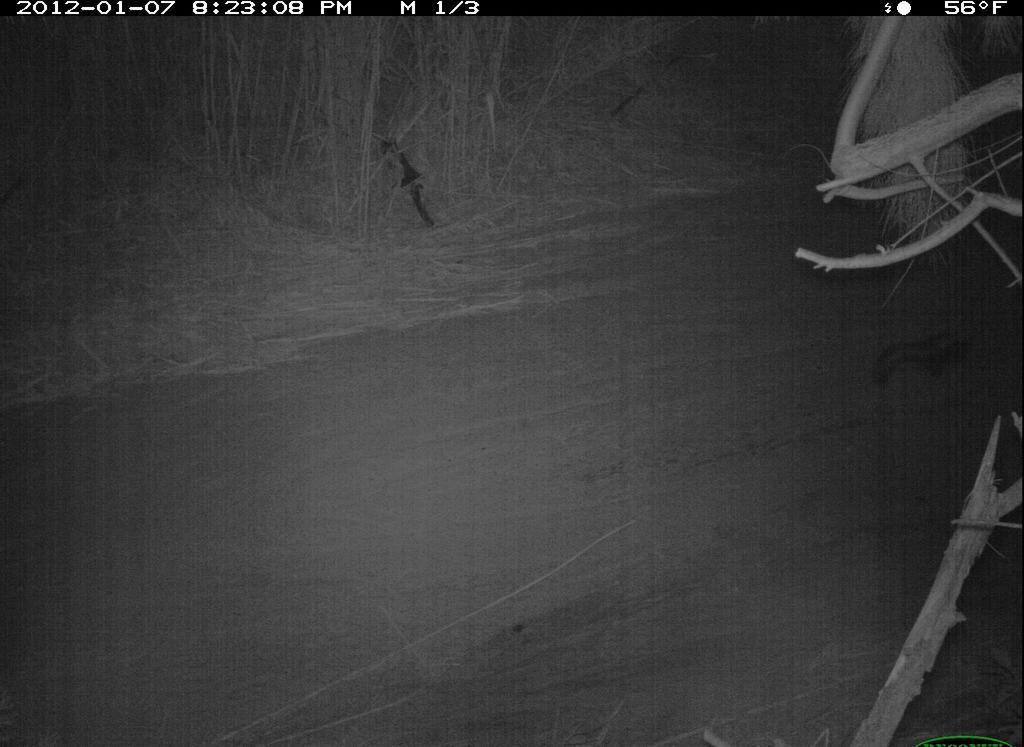skunk: (868, 306, 998, 391)
